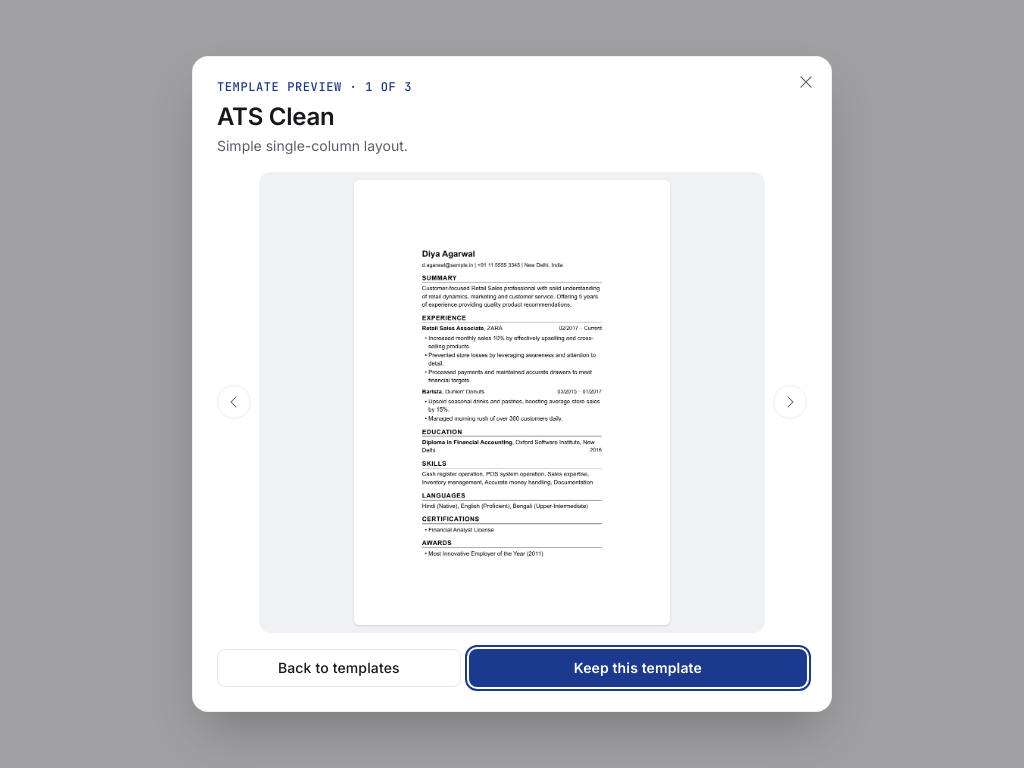
Test case: TemplatePreviewSheet › steps through the others, wrapping at both ends
The image size is (1024, 768).
Click the button named "Previous template" at (234, 402), box [217, 385, 251, 419]
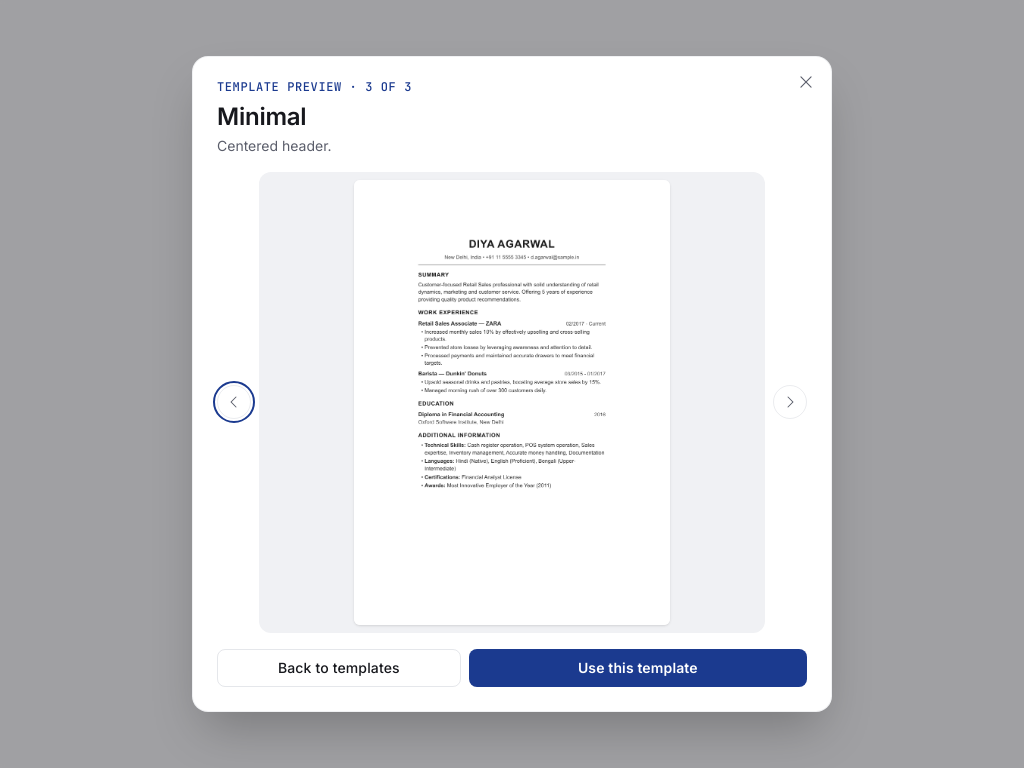
Expected: the dialog "Minimal" is shown, [192, 56, 832, 712]
Click the button named "Next template" at (790, 402), box [773, 385, 807, 419]
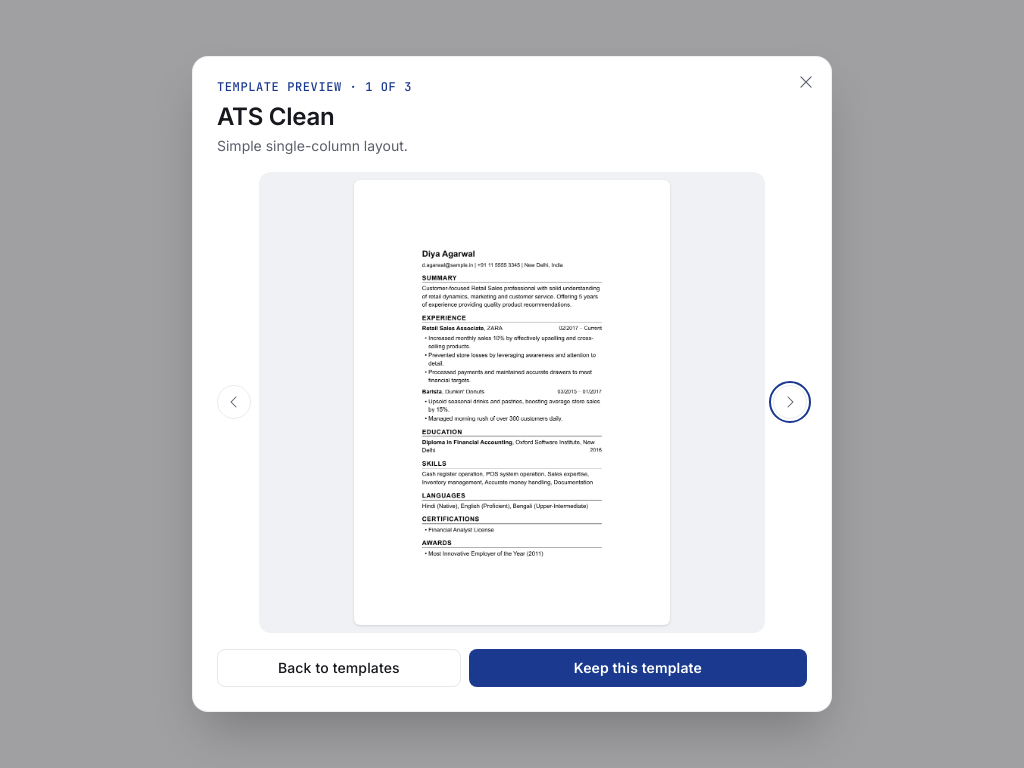
Click the button named "Next template" at (790, 402), box [773, 385, 807, 419]
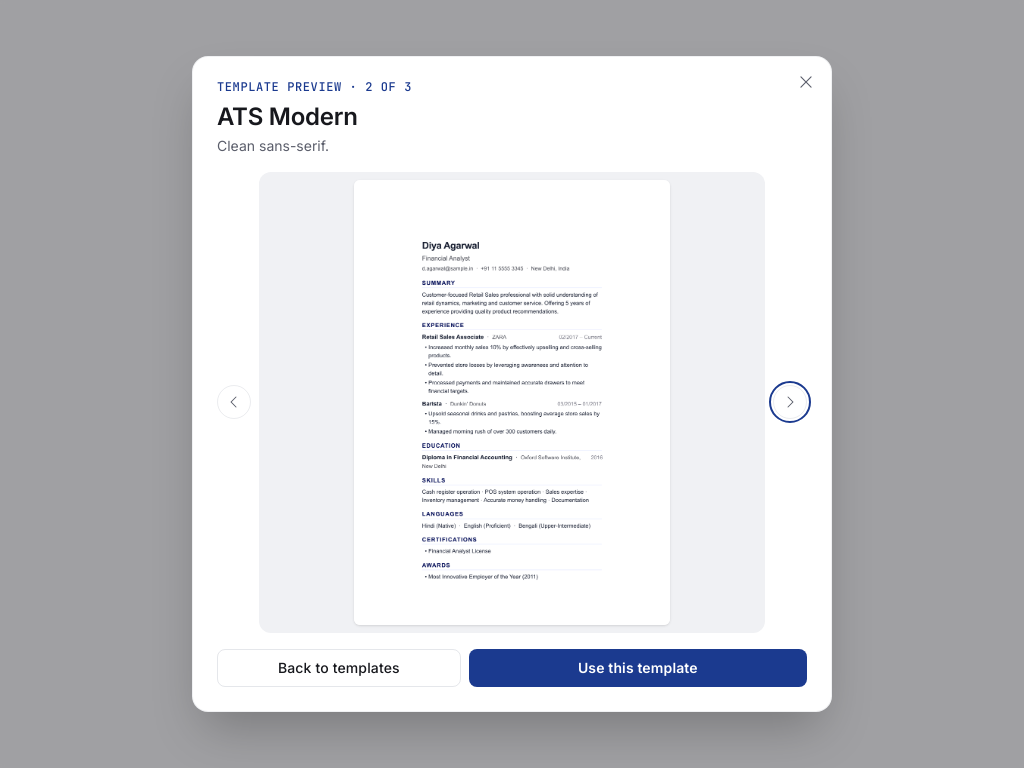
Expected: the dialog "ATS Modern" is shown, [192, 56, 832, 712]
